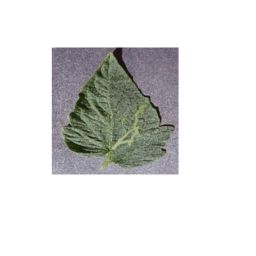liriomyza: (110, 102, 147, 152)
